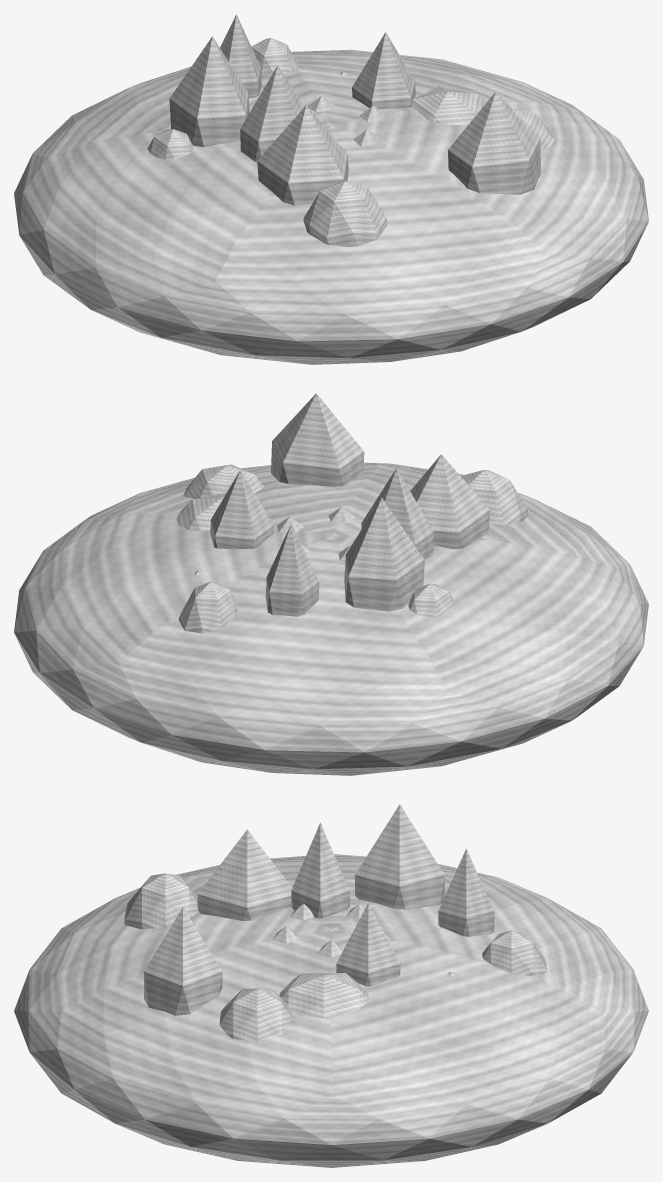
Rendered from limestone_node_variant_c.glb.
3 views of the same model, one above another, from view 1: azimuth 30°, elevation 25°; view 2: azimuth 150°, elevation 25°; view 3: azimuth 270°, elevation 25° (orthographic).
Parts seen in each view (by area): view 1: Resource node bedrock.002, Exposed ore formation.032, Exposed ore formation.026, Exposed ore formation.029, Exposed ore formation.030, Exposed ore formation.028, Exposed ore formation.022, Exposed ore formation.021, Exposed ore formation.025, Exposed ore formation.024, Exposed ore formation.027, Exposed ore formation.033; view 2: Resource node bedrock.002, Exposed ore formation.026, Exposed ore formation.032, Exposed ore formation.029, Exposed ore formation.025, Exposed ore formation.022, Exposed ore formation.028, Exposed ore formation.024, Exposed ore formation.030, Exposed ore formation.033, Exposed ore formation.027, Exposed ore formation.021; view 3: Resource node bedrock.002, Exposed ore formation.026, Exposed ore formation.032, Exposed ore formation.029, Exposed ore formation.028, Exposed ore formation.021, Exposed ore formation.025, Exposed ore formation.022, Exposed ore formation.033, Exposed ore formation.030, Exposed ore formation.024.
Boxes of the visible parts, x1,y1,x2,y2 form: Resource node bedrock.002: (14, 49, 648, 364); Exposed ore formation.032: (448, 91, 541, 194); Exposed ore formation.026: (169, 36, 249, 146); Exposed ore formation.029: (257, 105, 348, 205); Exposed ore formation.030: (303, 181, 387, 246); Exposed ore formation.028: (240, 65, 303, 162); Exposed ore formation.022: (352, 32, 415, 109); Exposed ore formation.021: (412, 86, 486, 125); Exposed ore formation.025: (220, 14, 261, 98); Exposed ore formation.024: (251, 38, 298, 75); Exposed ore formation.027: (147, 129, 193, 159); Exposed ore formation.033: (512, 109, 555, 150); Resource node bedrock.002: (14, 462, 648, 775); Exposed ore formation.026: (344, 497, 424, 611); Exposed ore formation.032: (271, 393, 364, 486); Exposed ore formation.029: (410, 454, 490, 549); Exposed ore formation.025: (265, 525, 319, 616); Exposed ore formation.022: (210, 470, 273, 549); Exposed ore formation.028: (361, 468, 433, 559); Exposed ore formation.024: (179, 581, 238, 633); Exposed ore formation.030: (461, 469, 528, 524); Exposed ore formation.033: (183, 464, 263, 498); Exposed ore formation.027: (408, 583, 454, 616); Exposed ore formation.021: (176, 492, 226, 531); Resource node bedrock.002: (14, 854, 648, 1167); Exposed ore formation.026: (355, 804, 444, 909); Exposed ore formation.032: (144, 907, 222, 1015); Exposed ore formation.029: (197, 829, 291, 920); Exposed ore formation.028: (291, 822, 349, 918); Exposed ore formation.021: (279, 973, 368, 1018); Exposed ore formation.025: (438, 848, 494, 936); Exposed ore formation.022: (336, 903, 400, 986); Exposed ore formation.033: (219, 988, 291, 1041); Exposed ore formation.030: (124, 873, 198, 929); Exposed ore formation.024: (482, 930, 546, 975).
Size of what is drawn, in the model's own units: 6 by 2.58 by 6.
Materials: 2 (2 with a texture image).
